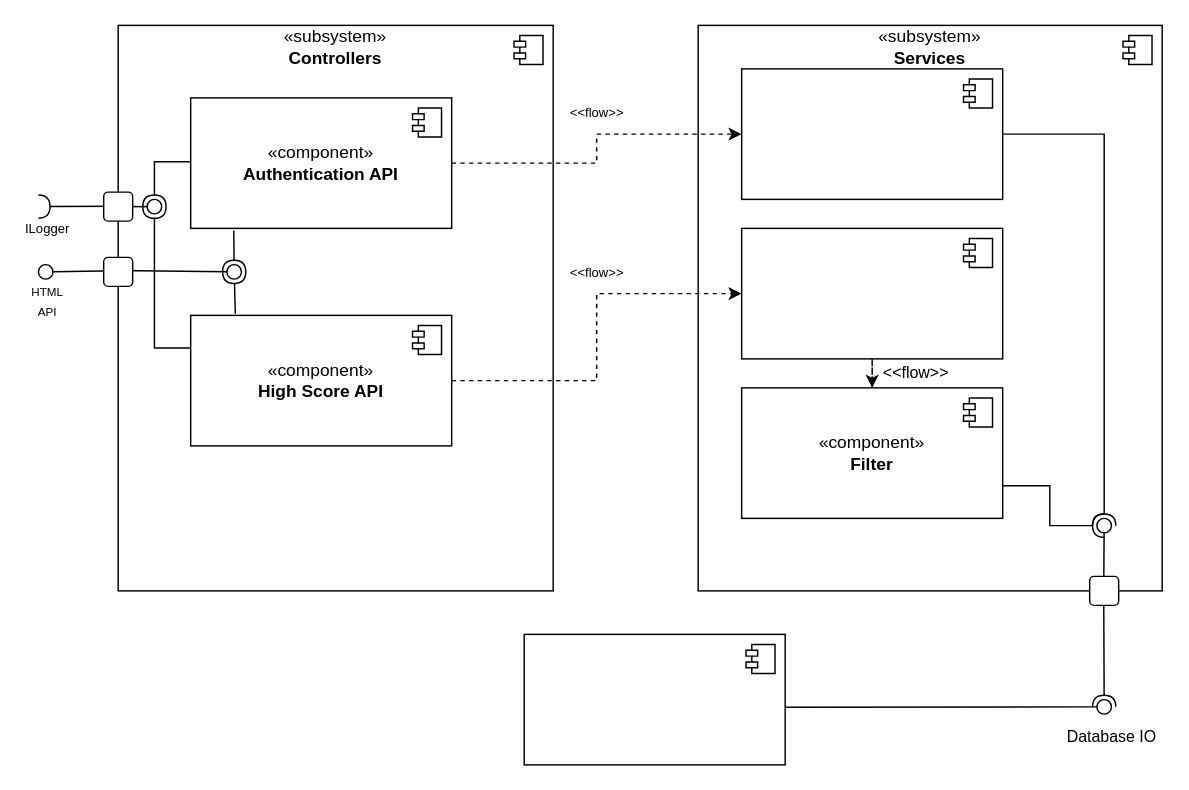
This 1189x790 diagram has some shape labels left out. Each missing label, with the box of its shape:
«component» Authentication: (740, 67, 1003, 199)
«component» Database: (523, 633, 785, 765)
«component» High-score calculator: (740, 227, 1003, 359)
